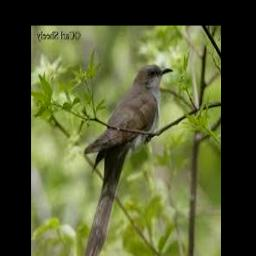Cuckoo: (84, 65, 173, 256)
